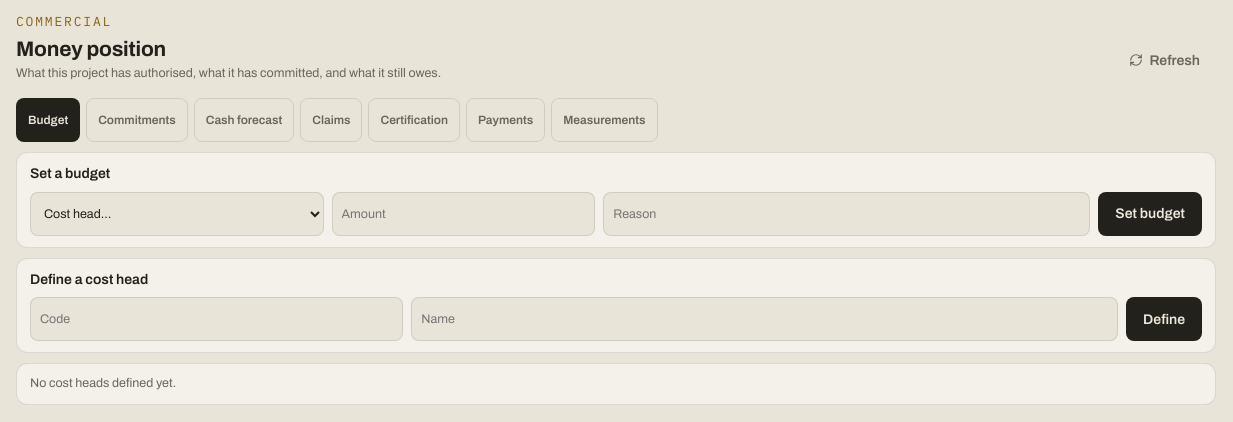
Scenario: Task 7B-ii (§M) — the rendered claim tabs never dereference an absent claim › R3-1: the Measurements tab needs no claim — the line is the subject
Click the button with test id "commercial-tab-measurements" at (604, 120), box [551,98,658,142]
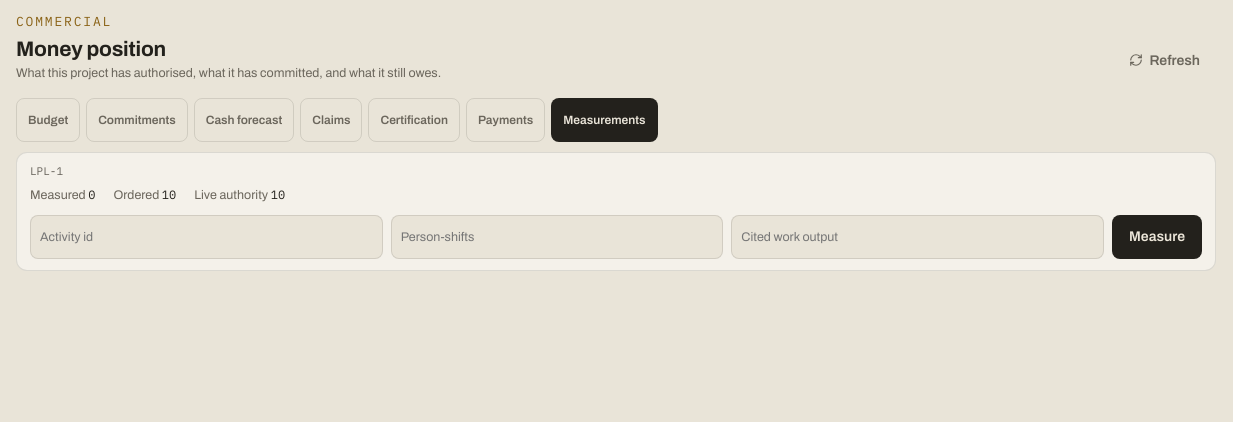
Expected: the element with test id "commercial-measurement-LPL-1" is shown, [16,152,1216,271]
Expected: the field with test id "measure-qty-LPL-1" is shown, [391,215,723,259]
